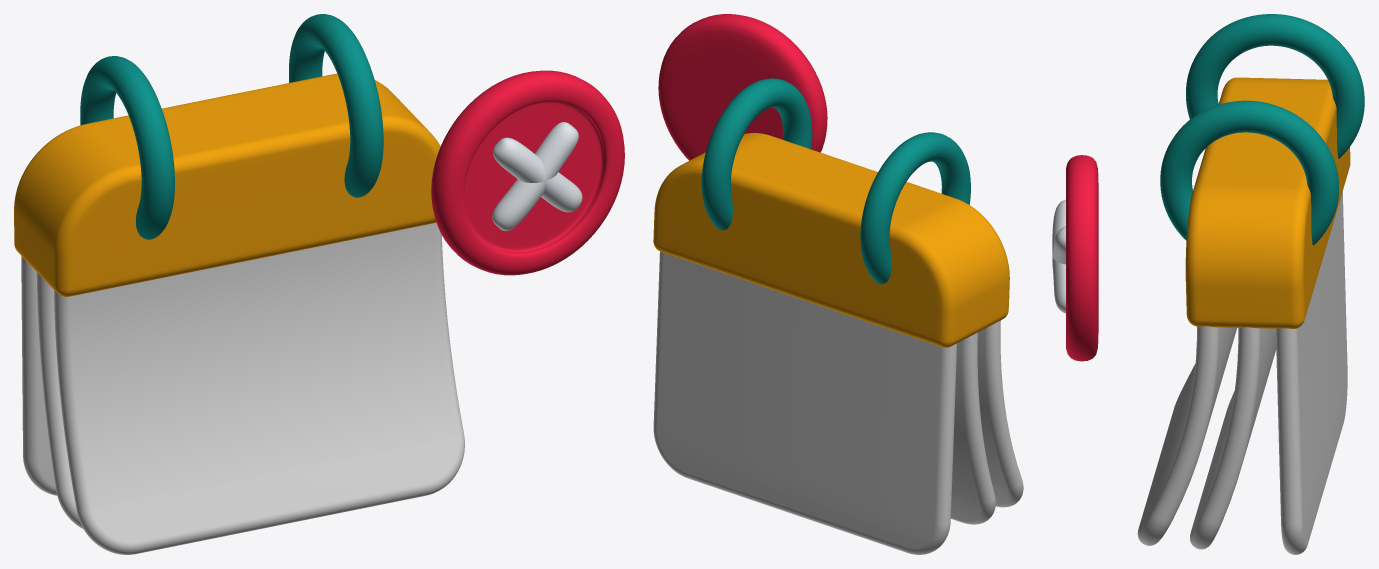
The model's file is empty-calendar-3d-animated-icon-611195643483.glb.
The picture shows the model from 3 angles, left to right: view 1: azimuth 30°, elevation 25°; view 2: azimuth 150°, elevation 25°; view 3: azimuth 270°, elevation 25°; orthographic projection. The views are drawn at different scales.
Parts seen in each view (by area): view 1: PAPER_003, CALENDAR, X SIGN, RING_001, X.001, PAPER_001, PAPER_003.001; view 2: PAPER_001, CALENDAR, X SIGN, RING_001, PAPER_003.001, PAPER_003; view 3: CALENDAR, RING_001, PAPER_001, PAPER_003, PAPER_003.001, X SIGN, X.001.
Part boxes in pixels (left/top/right/bottom): PAPER_003: left=54, top=222, right=464, bottom=554; CALENDAR: left=14, top=73, right=440, bottom=296; X SIGN: left=431, top=70, right=624, bottom=275; RING_001: left=80, top=14, right=383, bottom=239; X.001: left=492, top=122, right=582, bottom=231; PAPER_001: left=21, top=256, right=57, bottom=495; PAPER_003.001: left=36, top=272, right=83, bottom=529; PAPER_001: left=653, top=251, right=956, bottom=554; CALENDAR: left=653, top=133, right=1009, bottom=347; X SIGN: left=658, top=14, right=827, bottom=160; RING_001: left=701, top=78, right=970, bottom=284; PAPER_003.001: left=951, top=332, right=995, bottom=524; PAPER_003: left=977, top=320, right=1023, bottom=507; CALENDAR: left=1185, top=77, right=1350, bottom=328; RING_001: left=1160, top=14, right=1364, bottom=245; PAPER_001: left=1275, top=192, right=1347, bottom=554; PAPER_003: left=1137, top=326, right=1236, bottom=545; PAPER_003.001: left=1190, top=327, right=1276, bottom=549; X SIGN: left=1066, top=155, right=1098, bottom=361; X.001: left=1052, top=199, right=1065, bottom=313.
Bounding box in the file's own units: 0.6686 × 0.5978 × 0.3937.
